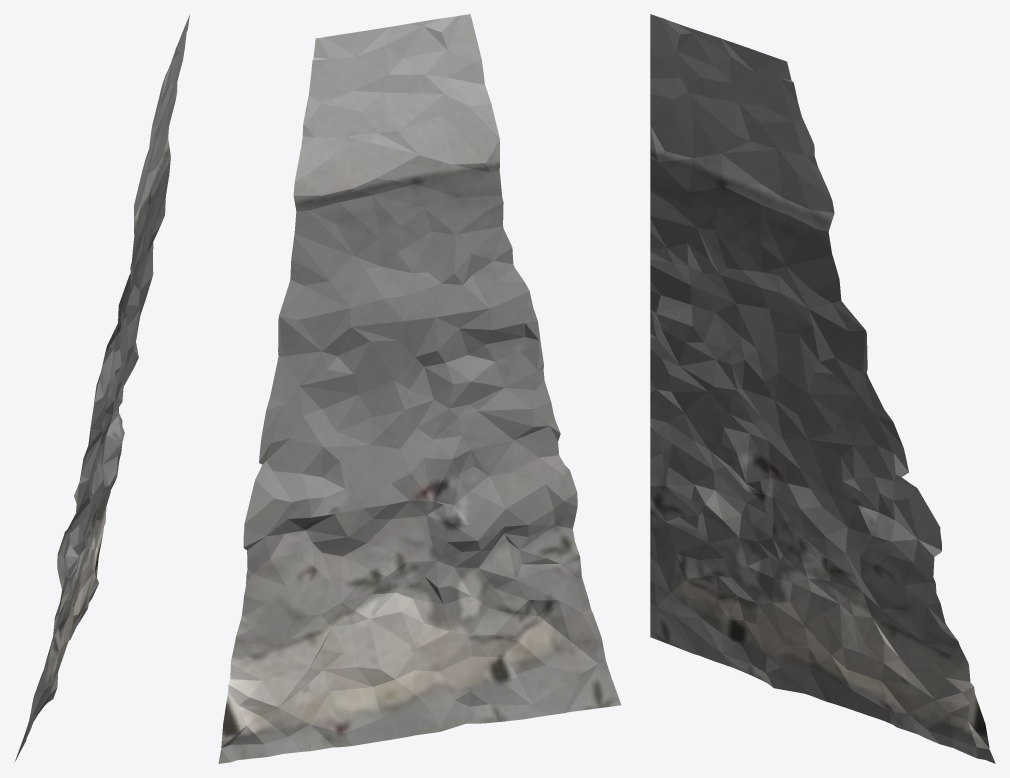
3 views of the same model, side by side, from view 1: azimuth 30°, elevation 25°; view 2: azimuth 150°, elevation 25°; view 3: azimuth 270°, elevation 25° (orthographic). The views are drawn at different scales.
Size of the model in its own units: 0.3242 by 0.8374 by 0.3734.
1 material, 1 textured.
